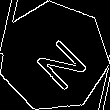N_NW: (22, 24, 86, 89)
